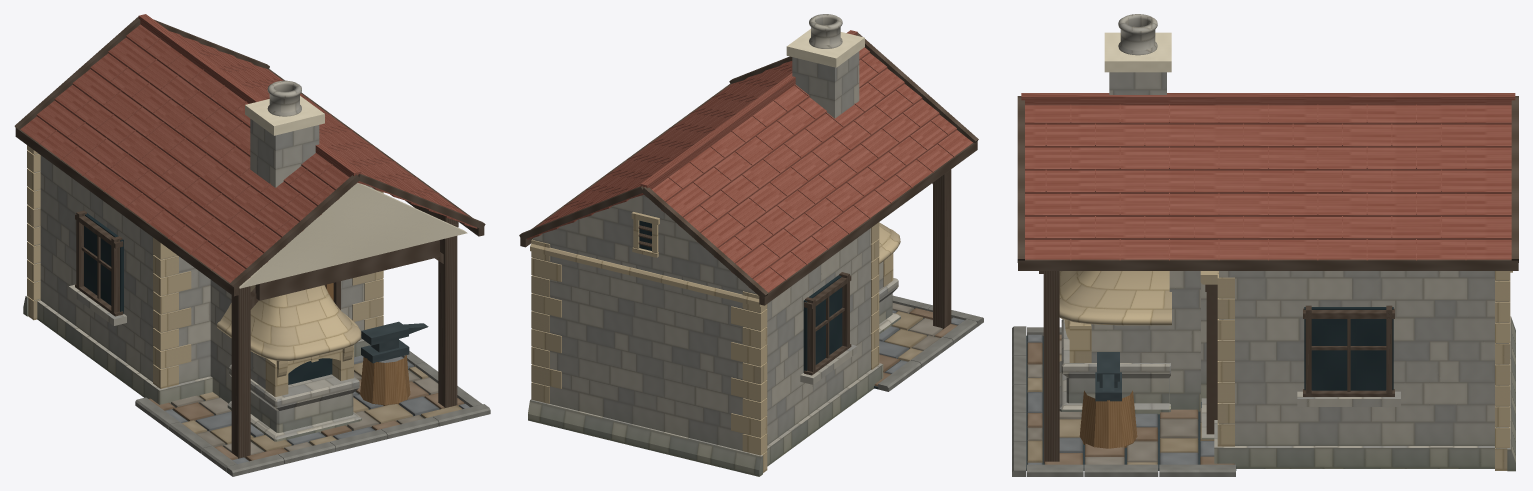
The model's file is forge-crafted.glb.
The picture shows the model from 3 angles, left to right: view 1: azimuth 30°, elevation 25°; view 2: azimuth 150°, elevation 25°; view 3: azimuth 270°, elevation 25°; orthographic projection. The views are drawn at different scales.
Parts seen in each view (by area): view 1: forge authored architecture; view 2: forge authored architecture; view 3: forge authored architecture.
Part boxes in pixels (<box>): forge authored architecture: <box>14,14,490,476</box>; forge authored architecture: <box>519,14,983,476</box>; forge authored architecture: <box>1012,14,1518,476</box>.
Size of the model in its own units: 4.72 by 5.68 by 7.
Materials: 1 (1 with a texture image).
